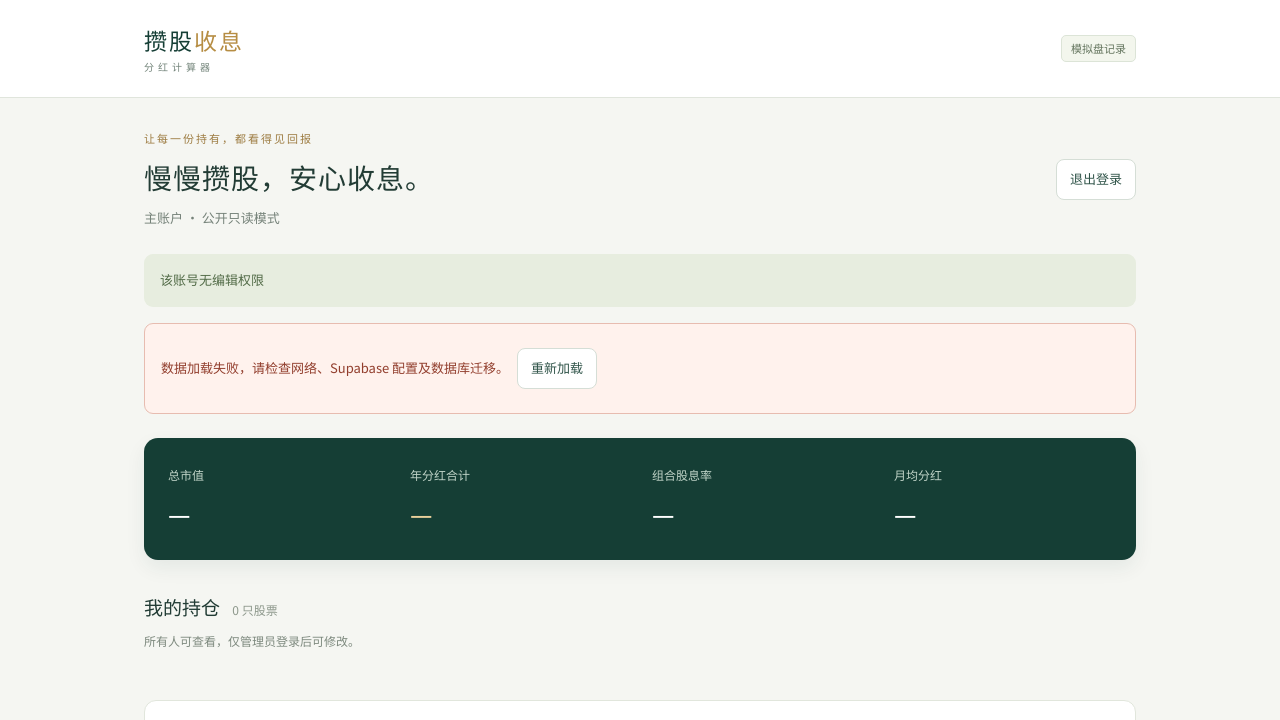
非管理员读取失败后重新加载成功仍保持只读
The image size is (1280, 720).
Click the button "重新加载" at (557, 368), box [517,348,597,389]
Wait 1000 ms
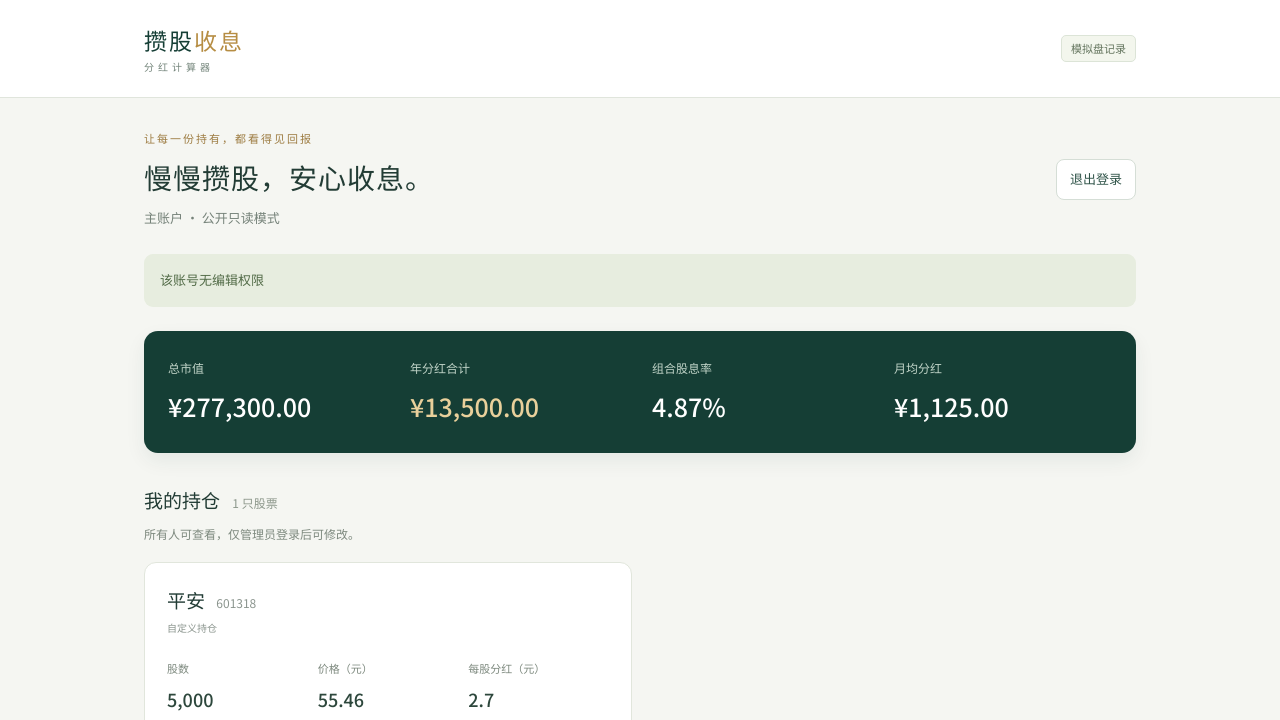
Expected: the text "该账号无编辑权限" is shown, [144,254,1136,307]
Result: the message "数据加载失败，请检查网络、Supabase 配置及数据库迁移。 重新加载" is gone
